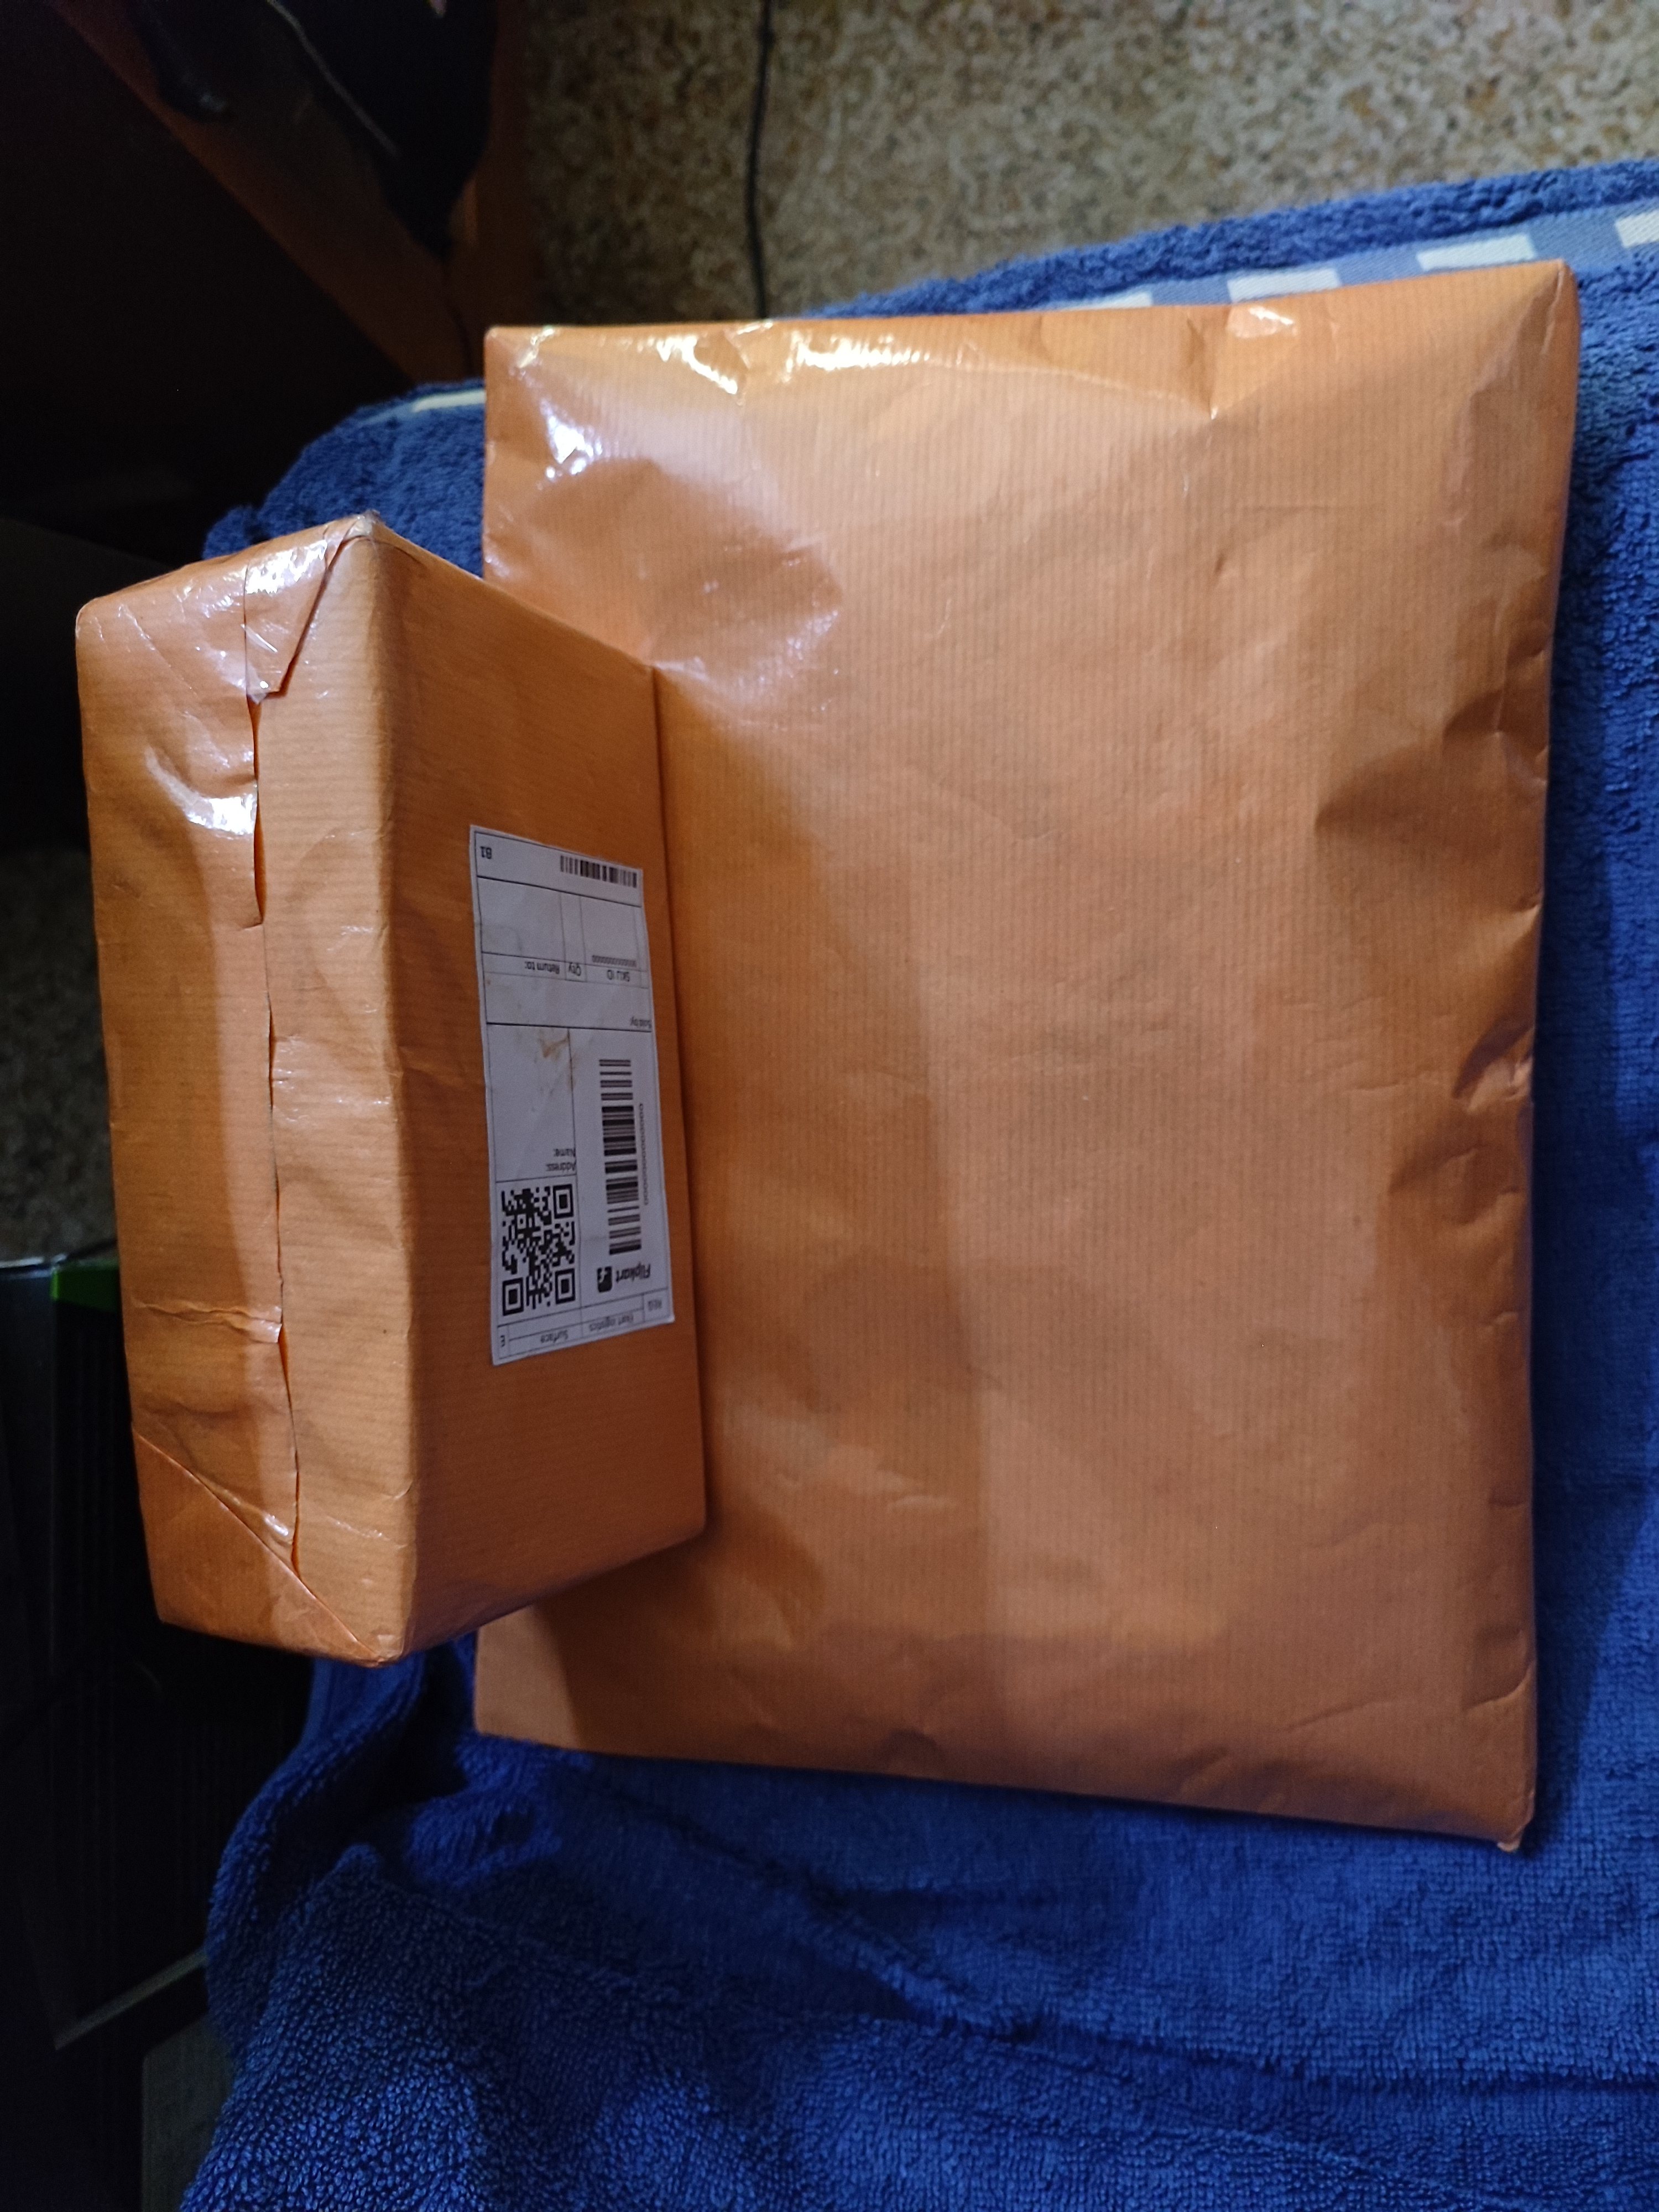Box: (357, 239, 1560, 1846), (56, 479, 760, 1670)
